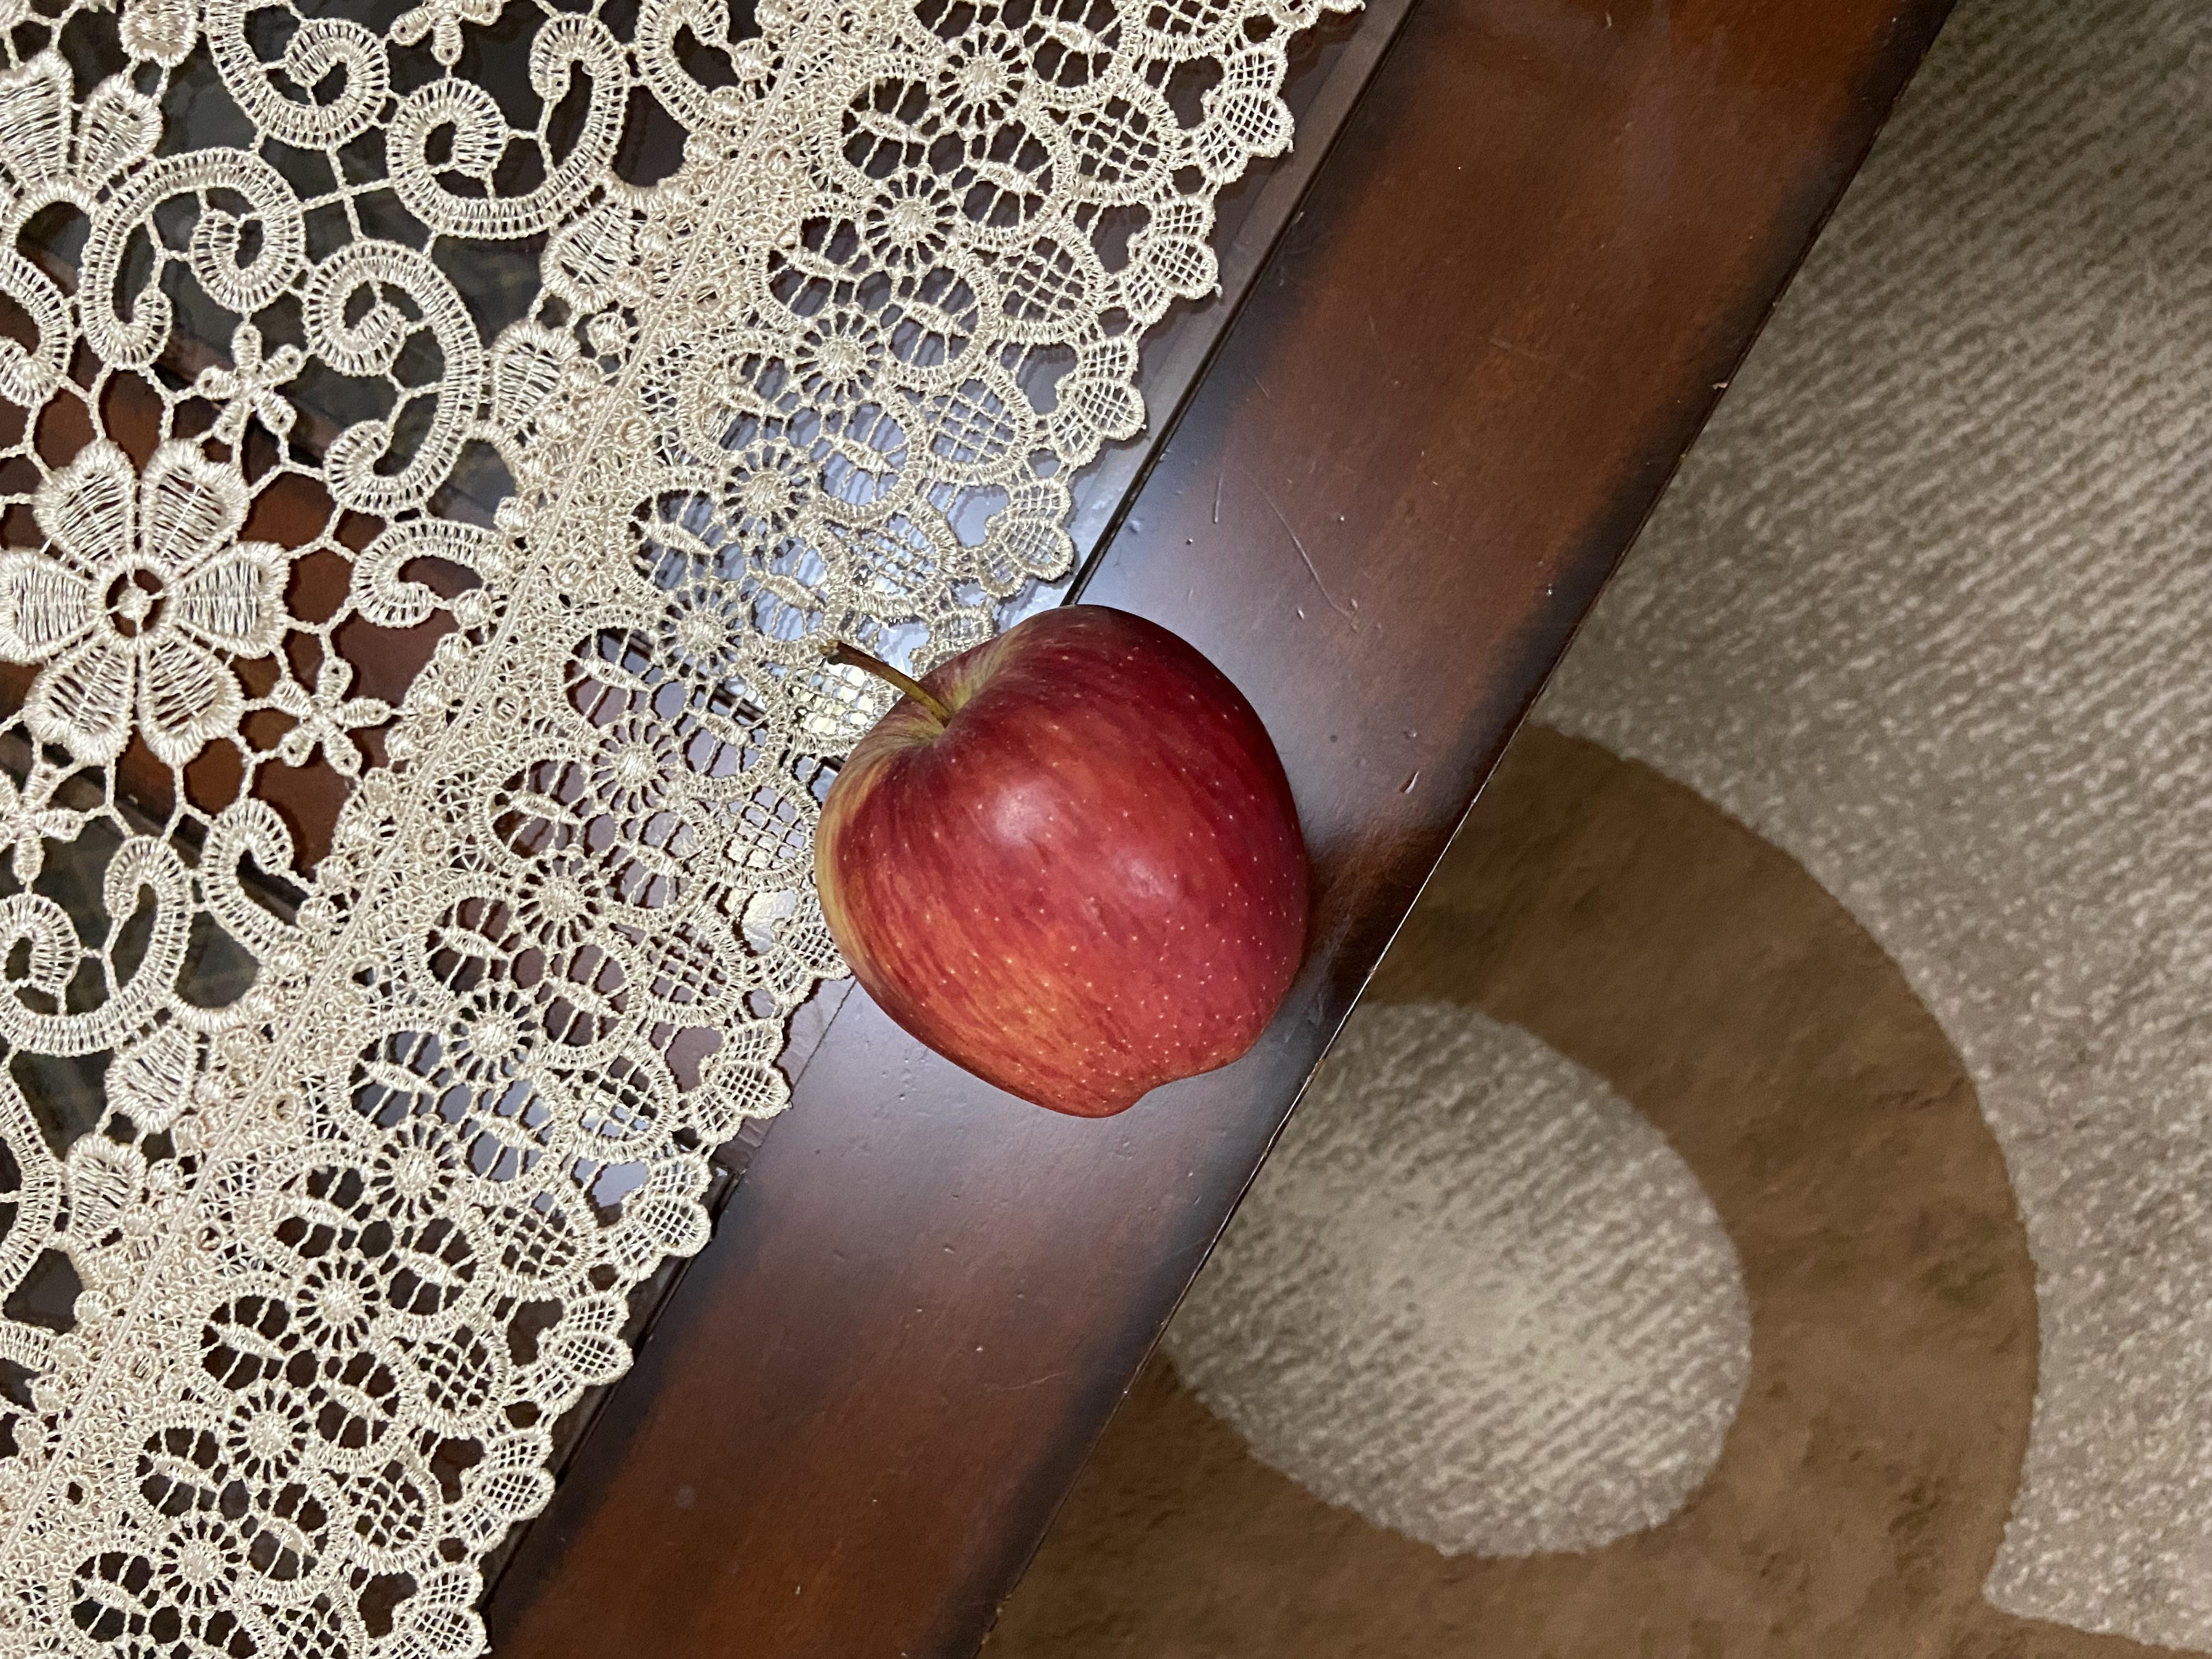Apple: (726, 580, 1435, 1000)
